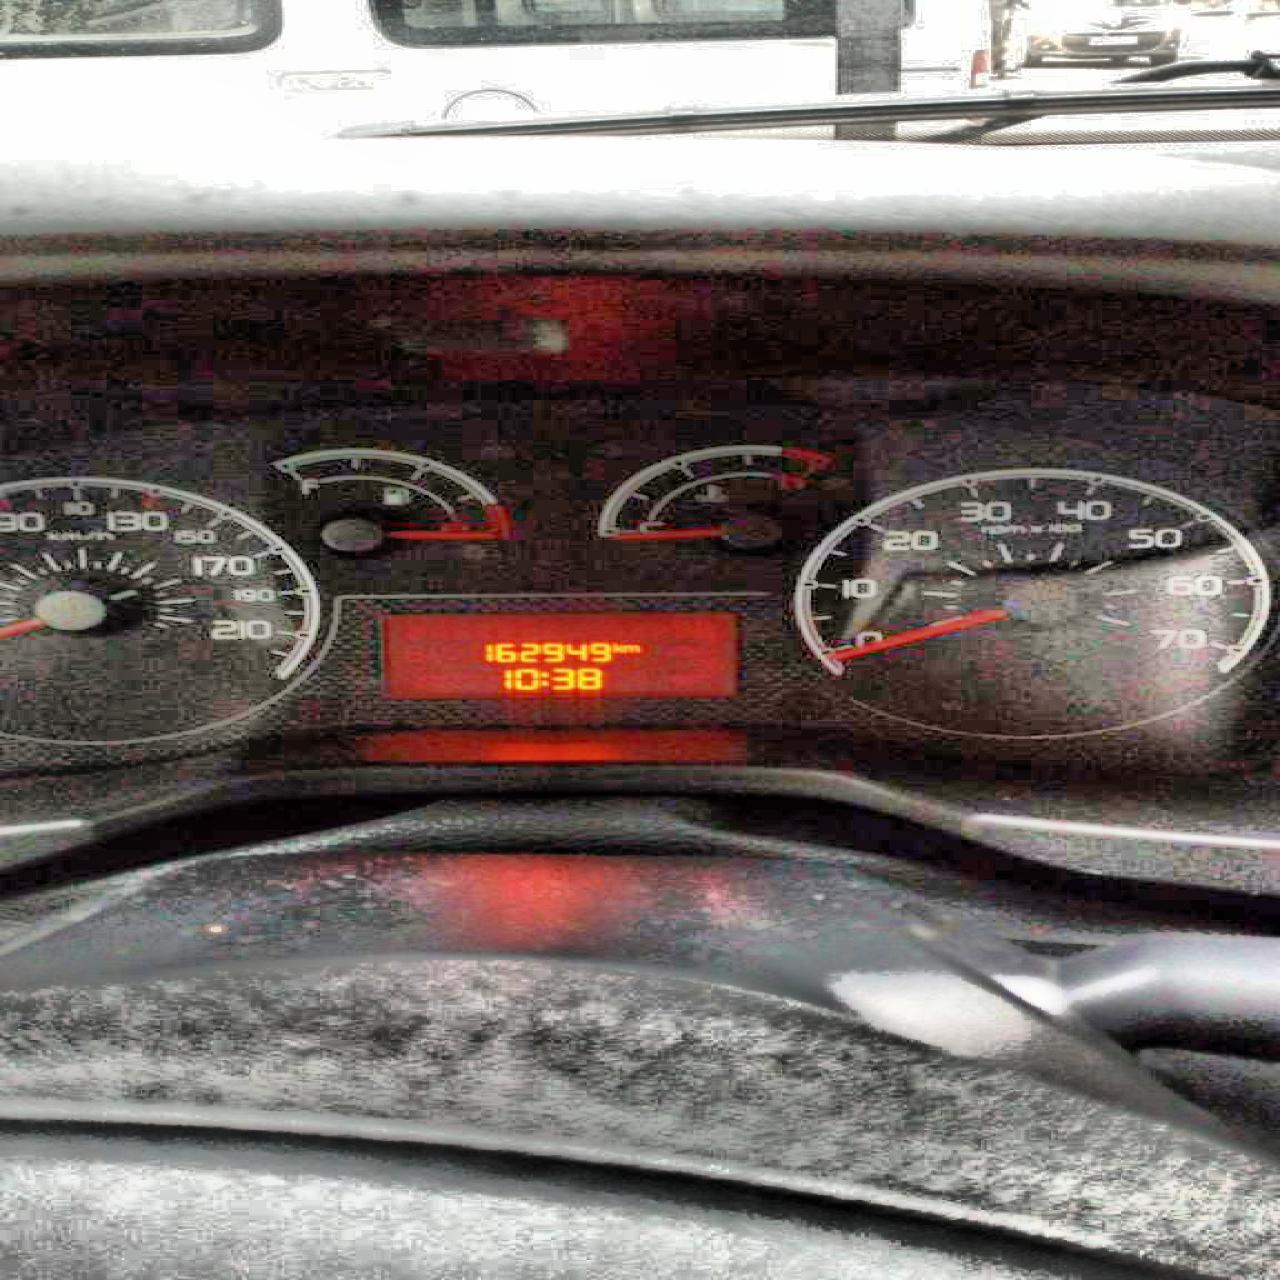0: (513, 667, 538, 688)
1: (479, 641, 493, 662), (501, 667, 511, 688)
2: (518, 641, 540, 662)
3: (549, 666, 573, 690)
4: (565, 641, 586, 660)
6: (493, 641, 516, 662)
8: (573, 666, 602, 690)
9: (539, 641, 564, 662), (587, 641, 610, 661)
X: (536, 670, 549, 686), (608, 641, 622, 653), (622, 644, 640, 653)
odometer: (377, 607, 742, 701)
